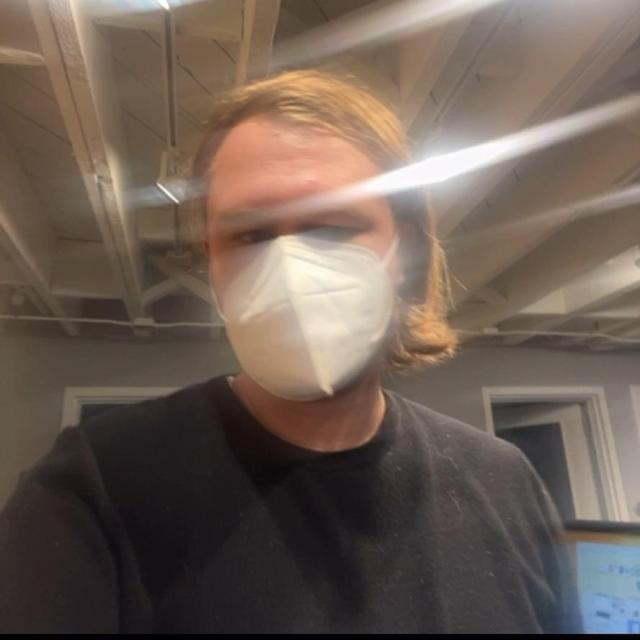no-helmet: (182, 63, 466, 407)
